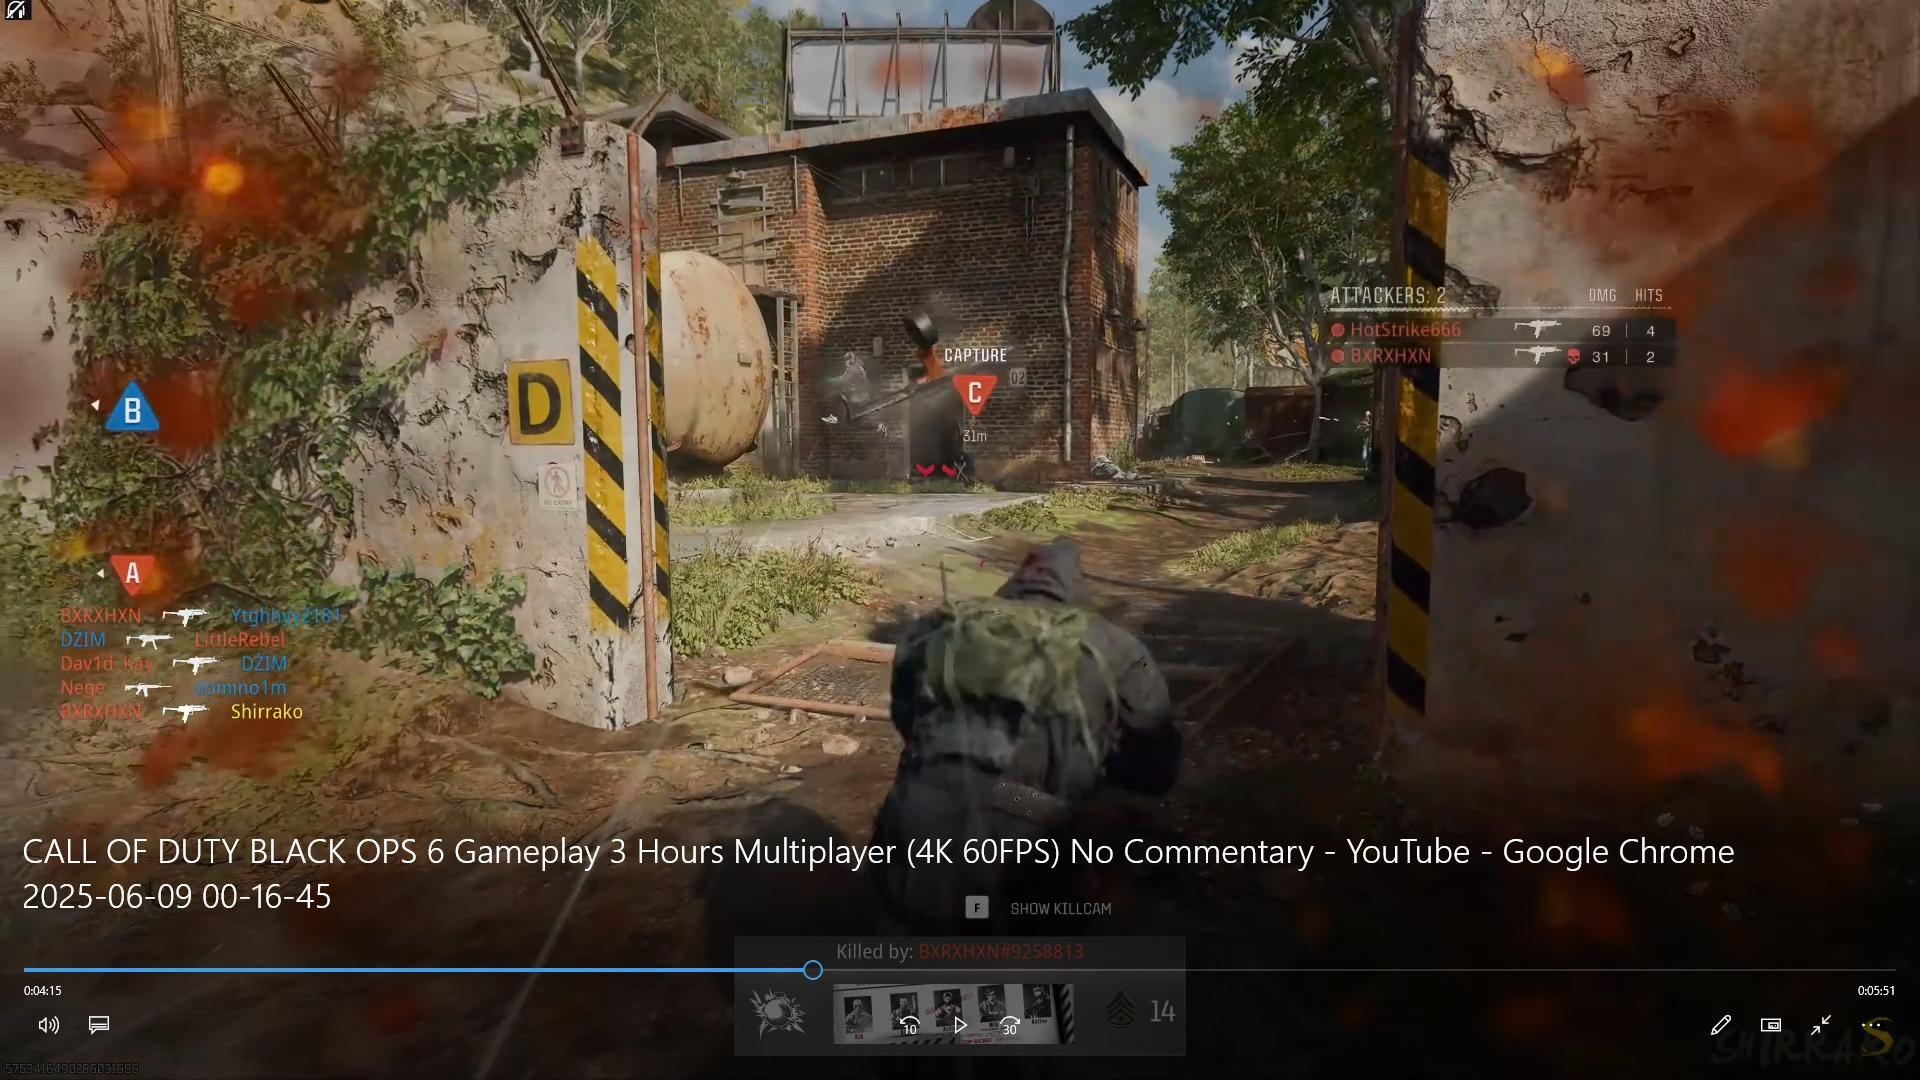Enemy: (814, 353, 886, 431)
